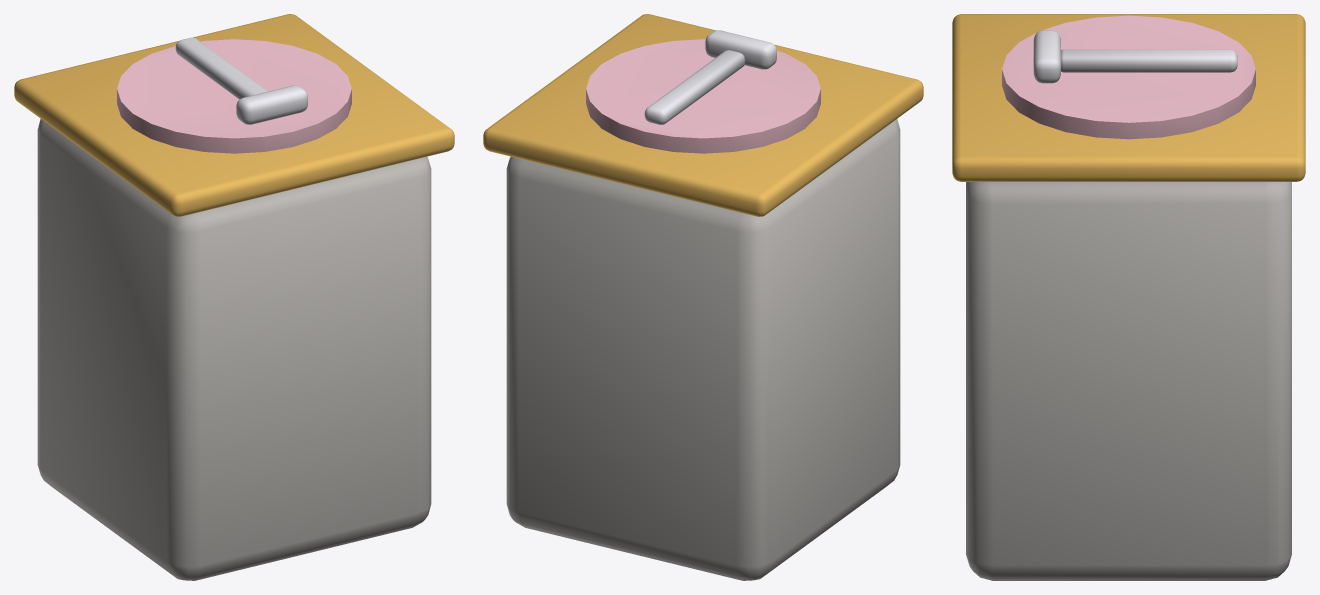
The model's file is gift-otto.glb.
3 renders of one model, left to right at view 1: azimuth 30°, elevation 25°; view 2: azimuth 150°, elevation 25°; view 3: azimuth 270°, elevation 25°, orthographic. The views are drawn at different scales.
Visible parts, largest first — view 1: gift-otto; view 2: gift-otto; view 3: gift-otto.
Boxes of the visible parts, x1,y1,x2,y2 form: gift-otto: (14,14,454,580); gift-otto: (483,14,923,580); gift-otto: (952,14,1305,580).
Bounding box in the file's own units: 0.39 × 0.58 × 0.39.
